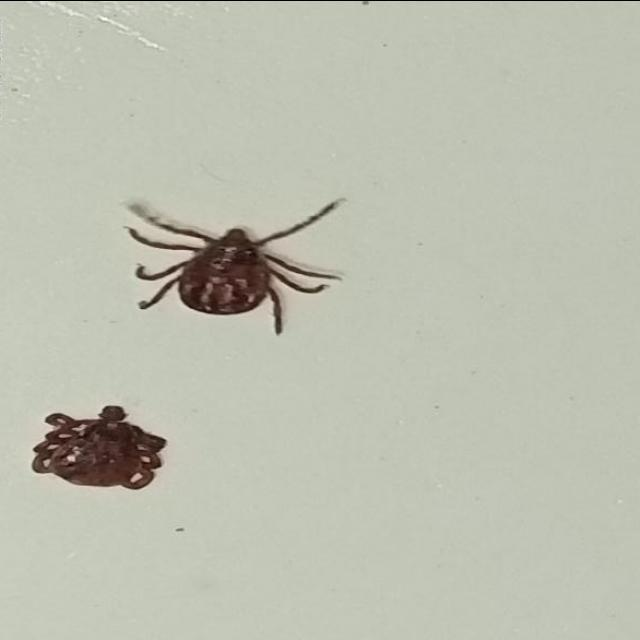Rhipicephalus Sanguineus-M: (127, 196, 344, 334), (29, 402, 166, 490)
